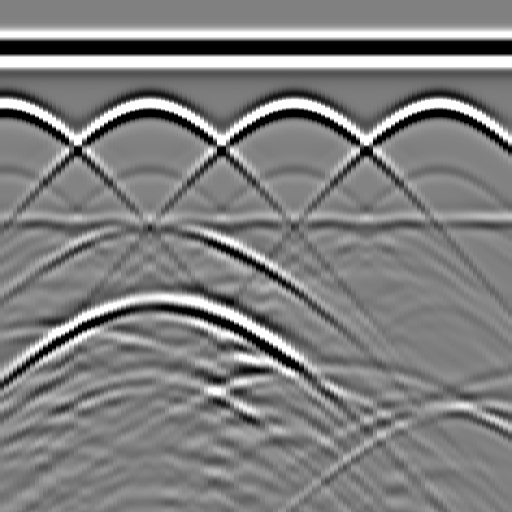grout_surface: (1, 207, 512, 237)
rebar: (127, 87, 167, 127), (271, 87, 311, 127), (416, 87, 456, 127)
rock_surface: (1, 328, 511, 408)
water_void: (127, 202, 187, 242)
